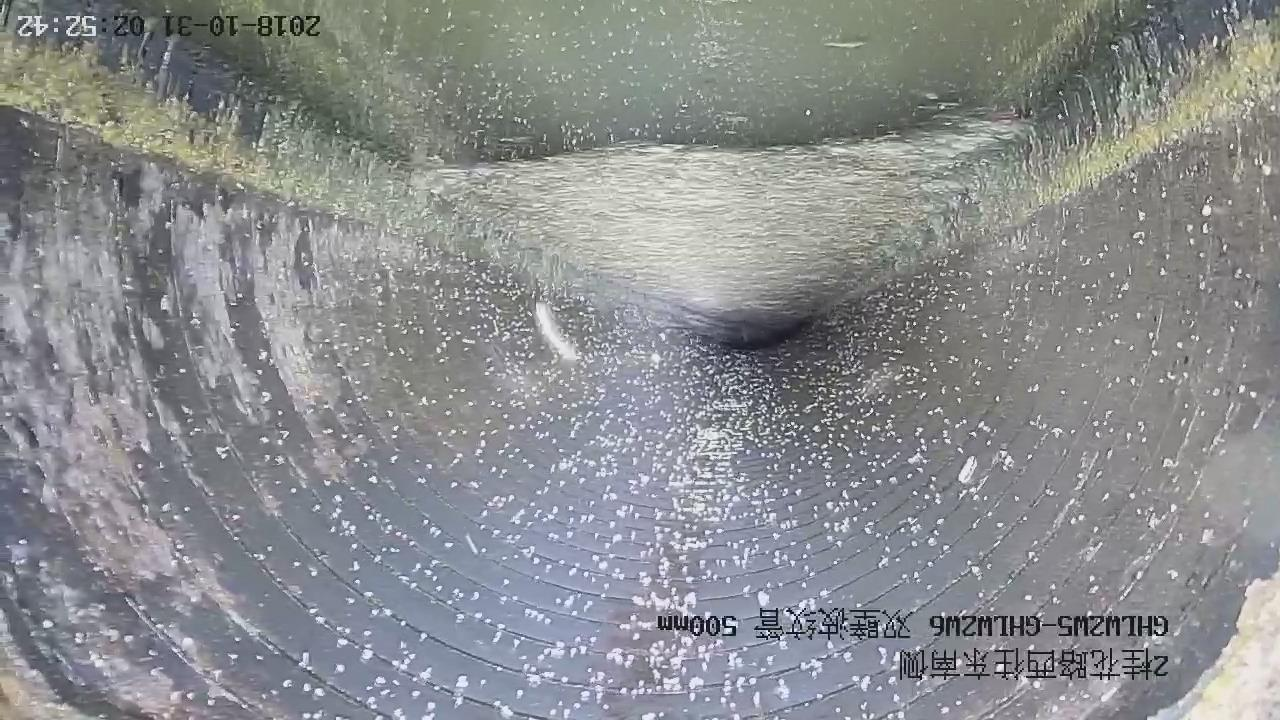FZ: (427, 115, 1022, 335)
